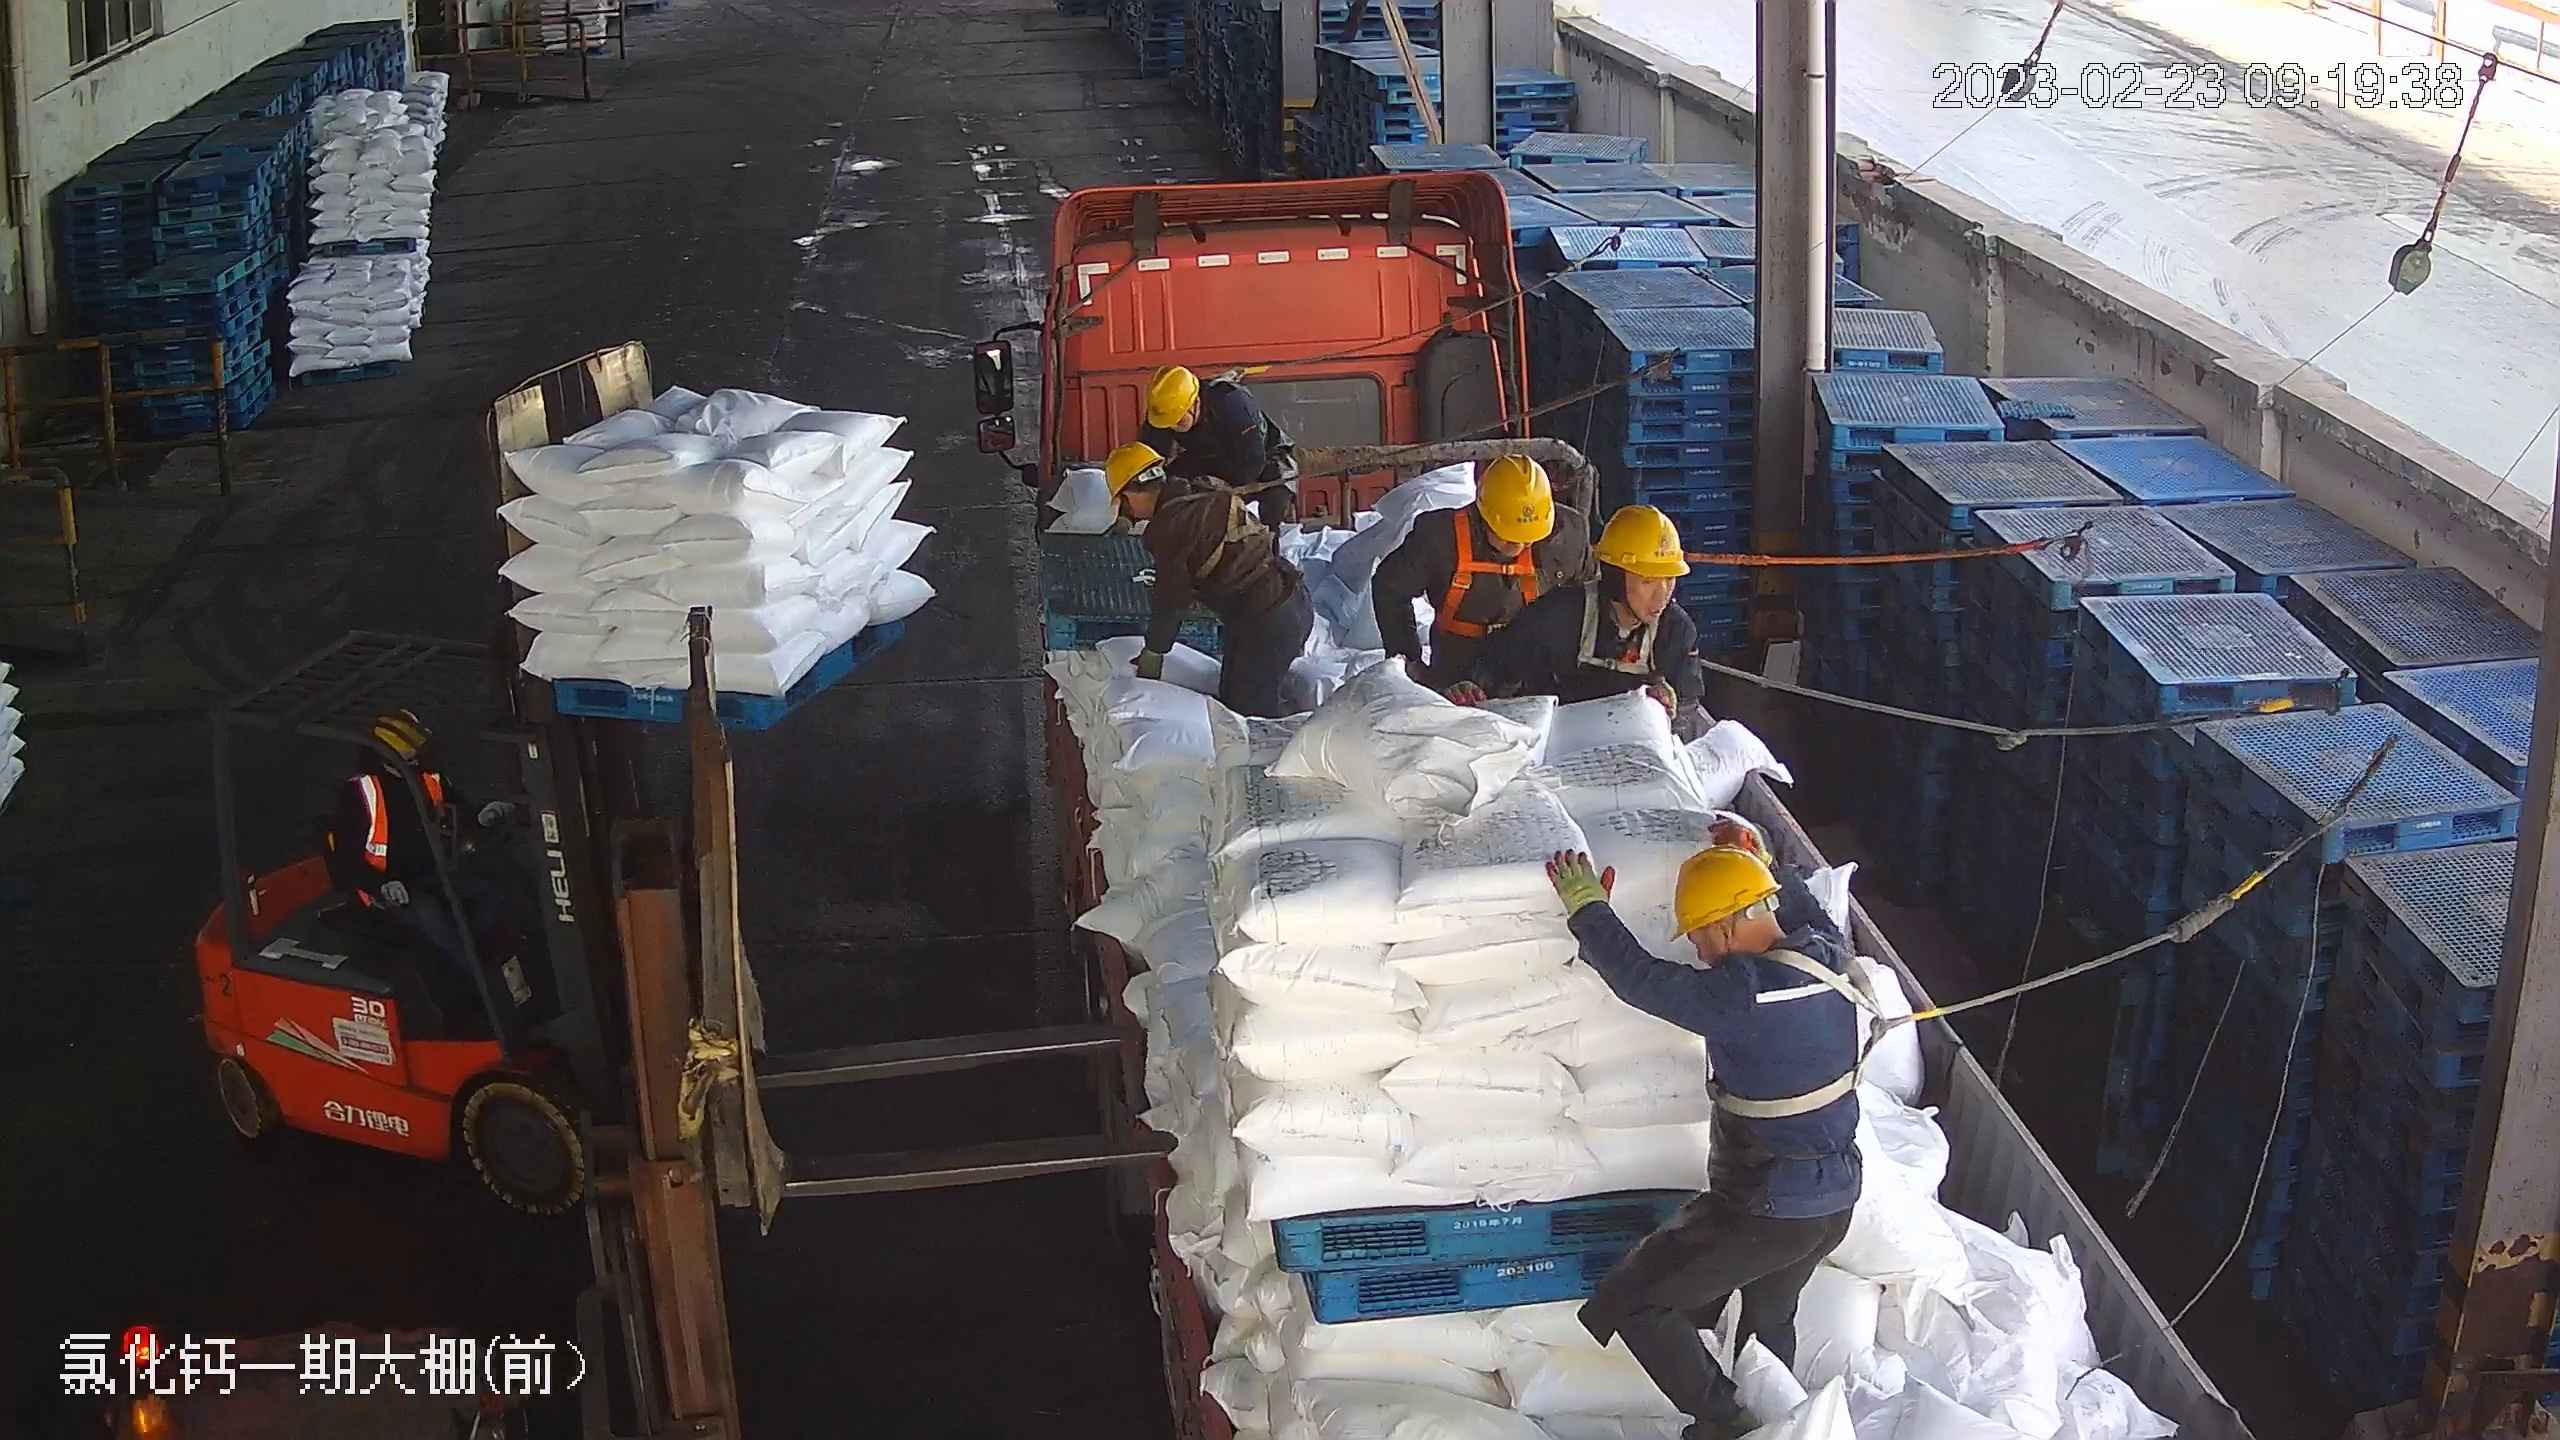belt: (1706, 940, 1944, 1116), (1427, 513, 1540, 637), (1158, 470, 1268, 576), (1568, 575, 1676, 671), (1198, 365, 1265, 420)
head: (1664, 844, 1860, 1056), (1536, 502, 1696, 676), (1401, 449, 1569, 595), (1103, 444, 1226, 556), (1144, 365, 1255, 447)
helmet: (1669, 841, 1780, 938), (1474, 449, 1557, 542), (1595, 502, 1689, 579), (1103, 443, 1165, 507), (1146, 366, 1198, 428)
people: (1555, 840, 1864, 1429), (1100, 435, 1315, 728), (332, 708, 499, 995), (1139, 367, 1303, 542)
truck: (997, 171, 2235, 1425)
